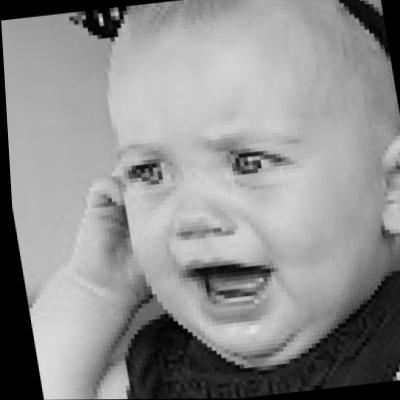sad: (82, 0, 394, 361)
